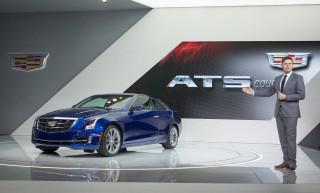cadillac: (46, 118, 59, 128)
